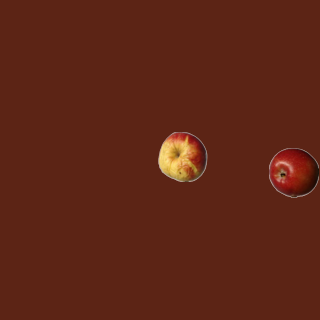Apple Braeburn: (268, 147, 318, 197)
Apple Red Yellow 1: (157, 131, 207, 181)
